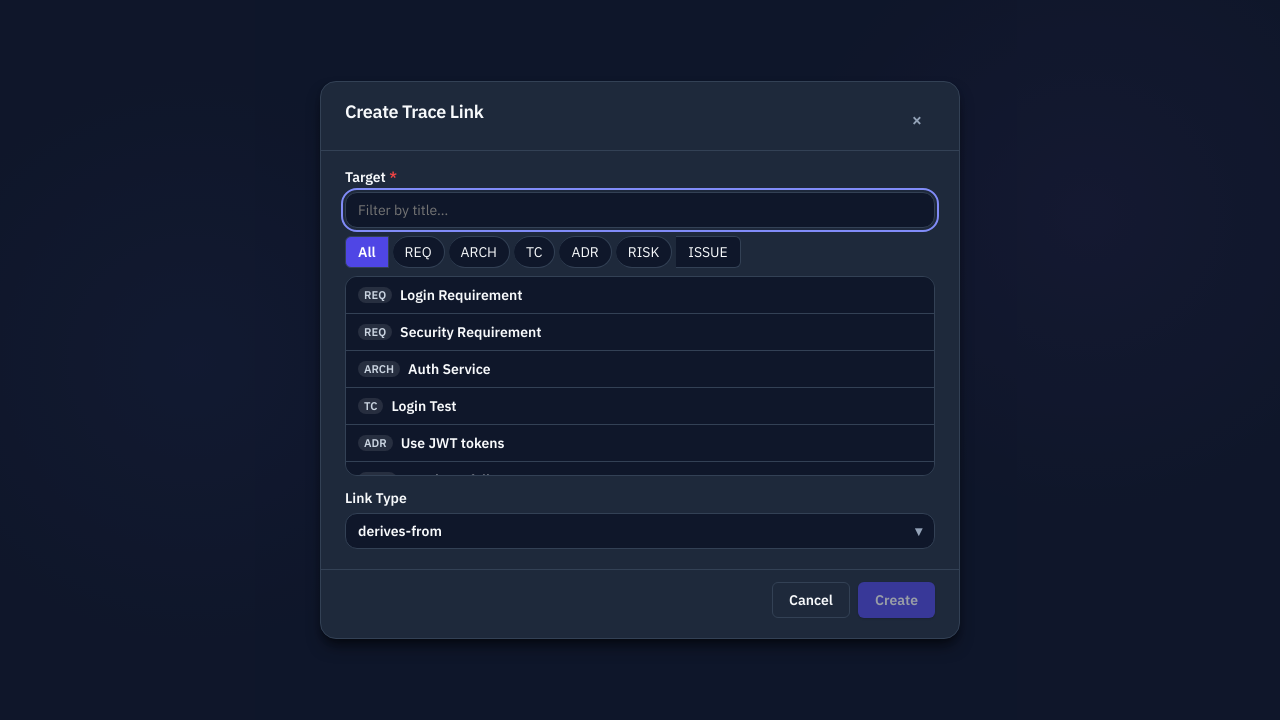
CreateTraceLinkDialog (REQ-005) › search field › shows empty message when search has no matches
Expected: the element with test id "create-trace-link-target-list" is shown, [345, 276, 935, 476]
Type "zzz-no-match" into the field with test id "create-trace-link-target-search" at x=640, y=210, box [345, 192, 935, 228]
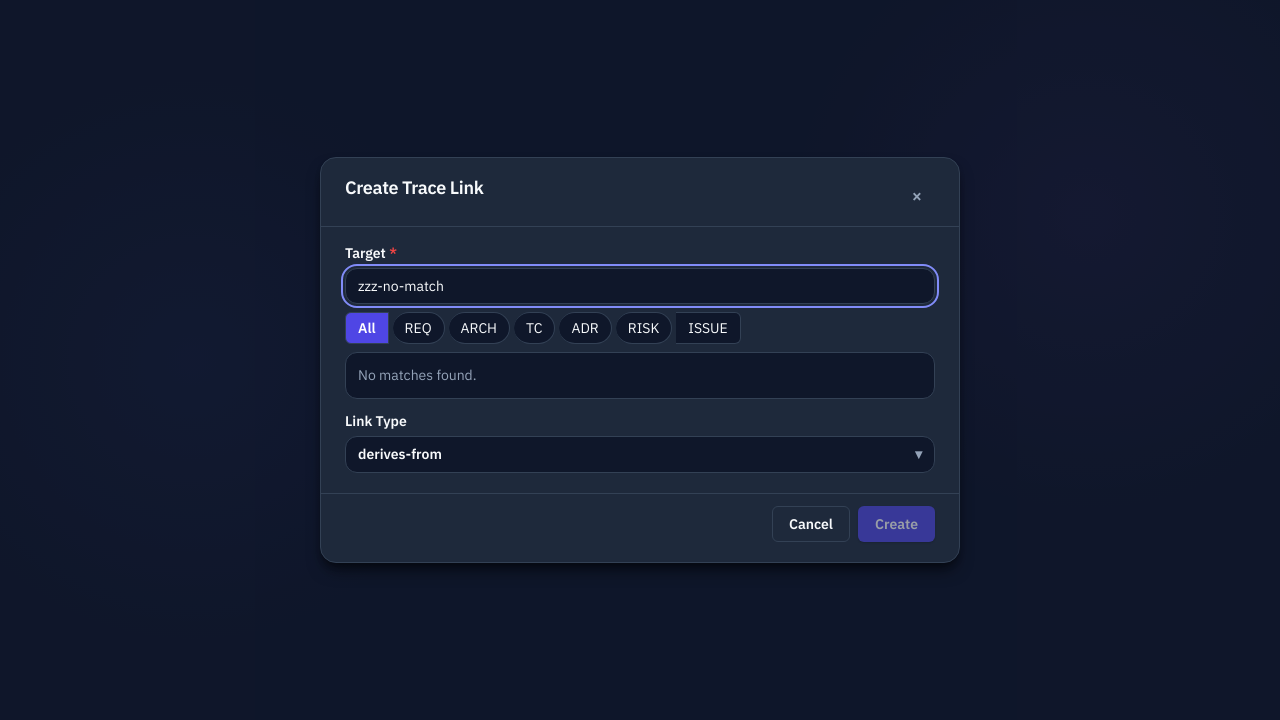
Result: the message "No matches found." is shown at [358, 366, 477, 384]
